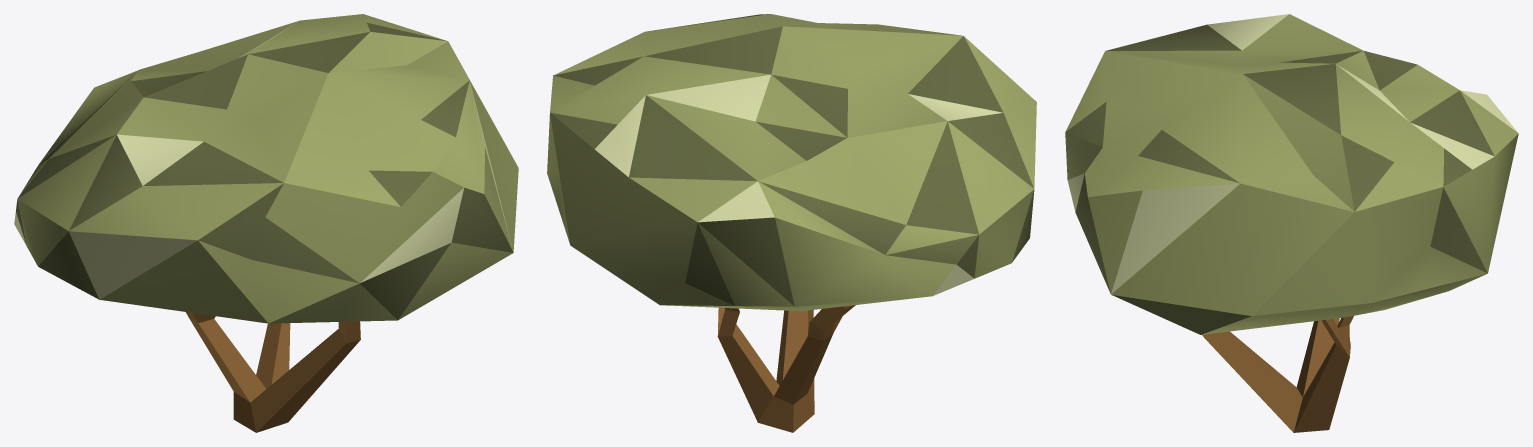
The model's file is Assets.fbx_Busch_Small.fbx.
3 views of the same model, side by side, from view 1: azimuth 30°, elevation 25°; view 2: azimuth 150°, elevation 25°; view 3: azimuth 270°, elevation 25° (orthographic).
Visible parts, largest first — view 1: Blattwerk, Ast; view 2: Blattwerk, Ast; view 3: Blattwerk, Ast.
Boxes of the visible parts, box(x1,y1,x2,y2) form: Blattwerk: box(14, 14, 518, 323); Ast: box(186, 312, 360, 432); Blattwerk: box(547, 14, 1036, 311); Ast: box(717, 305, 855, 432); Blattwerk: box(1065, 14, 1518, 334); Ast: box(1202, 316, 1353, 432).
Size of the model in its own units: 133 by 102 by 115.
